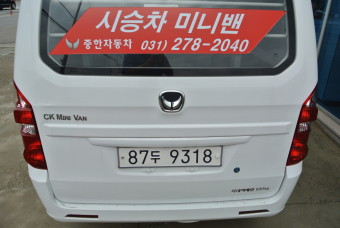car: (116, 145, 225, 169)
